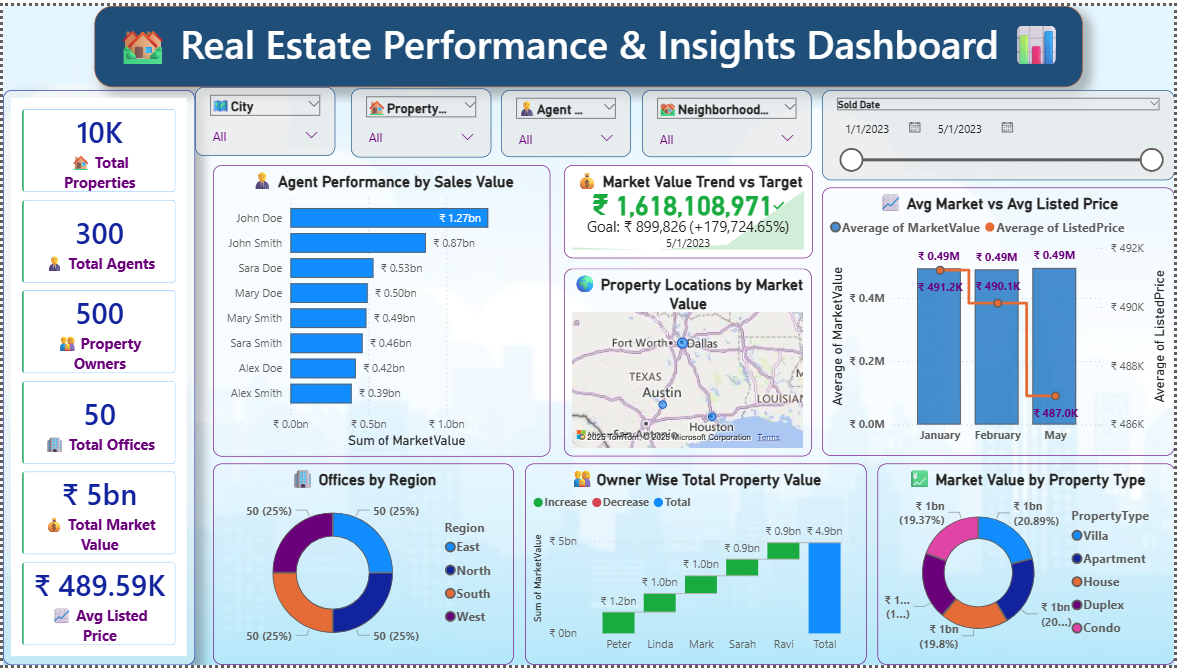

What the dashboard file says about the page in this screenshot:
{"tool":"powerbi","page":{"name":"Real Estate Performance Dashboard","canvas":[1280,720],"ordinal":14},"visuals":[{"type":"textbox","box":[100,0,1080,88.3],"z":0},{"type":"cardVisual","fields":{"Data":["CountNonNull(Properties.PropertyID)","CountNonNull(Agents.AgentID)","CountNonNull(Owners.OwnerID)","CountNonNull(Offices.OfficeID)","Sum(Properties.MarketValue)","Avg(Properties.ListedPrice)"]},"box":[0,91.7,210,628.3],"z":1000},{"type":"donutChart","title":"💹 Market Value by Property Type","fields":{"Category":["Properties.PropertyType"],"Y":["Sum(Properties.MarketValue)"]},"box":[955,500,325,220],"z":2000},{"type":"slicer","fields":{"Values":["Properties.City"]},"box":[210,88.3,153.3,75],"z":3000},{"type":"slicer","fields":{"Values":["Properties.PropertyType"]},"box":[380,90,153.3,75],"z":4000},{"type":"slicer","fields":{"Values":["Agents.FullName"]},"box":[545,91.7,141.7,73.3],"z":5000},{"type":"slicer","fields":{"Values":["Neighborhoods.NeighborhoodName"]},"box":[698.3,91.7,185,73.3],"z":6000},{"type":"map","title":"🌍 Property Locations by Market Value","fields":{"Category":["Properties.City"],"Size":["Sum(Properties.MarketValue)"]},"box":[613.7,286.6,270.4,205.6],"z":7000},{"type":"barChart","title":"🧑💼 Agent Performance by Sales Value","fields":{"Category":["Agents.FullName"],"Y":["Sum(Properties.MarketValue)"]},"box":[230,173.3,368.3,318.3],"z":8000},{"type":"waterfallChart","title":"👨👩👧 Owner Wise Total Property Value","fields":{"Category":["Owners.OwnerName"],"Y":["Sum(Properties.MarketValue)"]},"box":[570,500,373.3,220],"z":9000},{"type":"donutChart","title":"🏢 Offices by Region","fields":{"Category":["Agents.Region"],"Y":["CountNonNull(Offices.OfficeID)"]},"box":[230,500,328.3,220],"z":10000},{"type":"lineStackedColumnComboChart","title":"📈 Avg Market vs Avg Listed Price","fields":{"Category":["Properties.SoldDate.Variation.Date Hierarchy.Month","Properties.SoldDate.Variation.Date Hierarchy.Day"],"Y":["Avg(Properties.MarketValue)"],"Y2":["Avg(Properties.ListedPrice)"]},"box":[895,198.3,385,293.3],"z":11000},{"type":"kpi","title":"💰 Market Value Trend vs Target","fields":{"Goal":["Max(Properties.MarketValue)"],"Indicator":["Sum(Properties.MarketValue)"],"TrendLine":["Properties.SoldDate"]},"box":[613.7,173.3,272,102],"z":12000},{"type":"slicer","fields":{"Values":["Properties.SoldDate"]},"box":[895,91.7,385,98.3],"z":13000}]}

Visuals, with their boxes in screenshot pixels (x1, y1, x2, y2), scaled from the page's 1280x720 canvas onto the 1179x669 screenshot:
textbox: detection(92, 0, 1087, 82)
cardVisual - CountNonNull(Properties.PropertyID) x CountNonNull(Agents.AgentID): detection(0, 85, 193, 668)
"💹 Market Value by Property Type" donutChart: detection(880, 465, 1178, 668)
slicer - Properties.City: detection(193, 82, 335, 152)
slicer - Properties.PropertyType: detection(350, 84, 491, 153)
slicer - Agents.FullName: detection(502, 85, 633, 153)
slicer - Neighborhoods.NeighborhoodName: detection(643, 85, 814, 153)
"🌍 Property Locations by Market Value" map: detection(565, 266, 814, 457)
"🧑💼 Agent Performance by Sales Value" barChart: detection(212, 161, 551, 457)
"👨👩👧 Owner Wise Total Property Value" waterfallChart: detection(525, 465, 869, 668)
"🏢 Offices by Region" donutChart: detection(212, 465, 514, 668)
"📈 Avg Market vs Avg Listed Price" lineStackedColumnComboChart: detection(824, 184, 1178, 457)
"💰 Market Value Trend vs Target" kpi: detection(565, 161, 816, 256)
slicer - Properties.SoldDate: detection(824, 85, 1178, 177)
